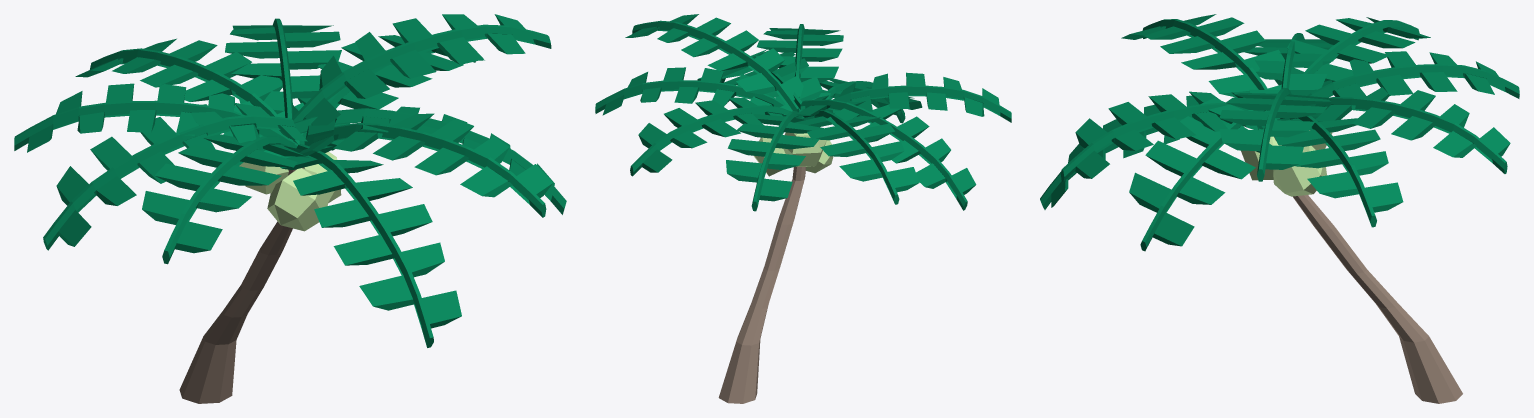
The model's file is coco_tree_03.fbx.
The picture shows the model from 3 angles, left to right: view 1: azimuth 30°, elevation 25°; view 2: azimuth 150°, elevation 25°; view 3: azimuth 270°, elevation 25°; orthographic projection. The views are drawn at different scales.
Parts seen in each view (by area): view 1: coco_tree_3; view 2: coco_tree_3; view 3: coco_tree_3.
Boxes of the visible parts, x1,y1,x2,y2 form: coco_tree_3: (14, 14, 566, 403); coco_tree_3: (595, 14, 1011, 403); coco_tree_3: (1040, 14, 1519, 403).
Bounding box in the file's own units: 3382 × 2652 × 3308.
